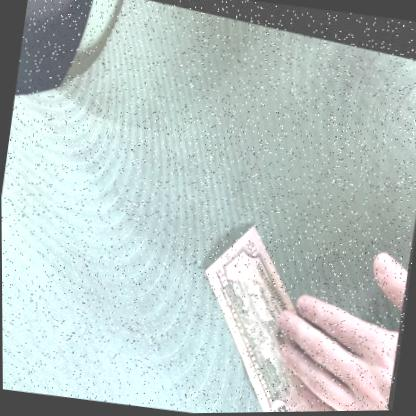dollar_back: (206, 220, 345, 413)
